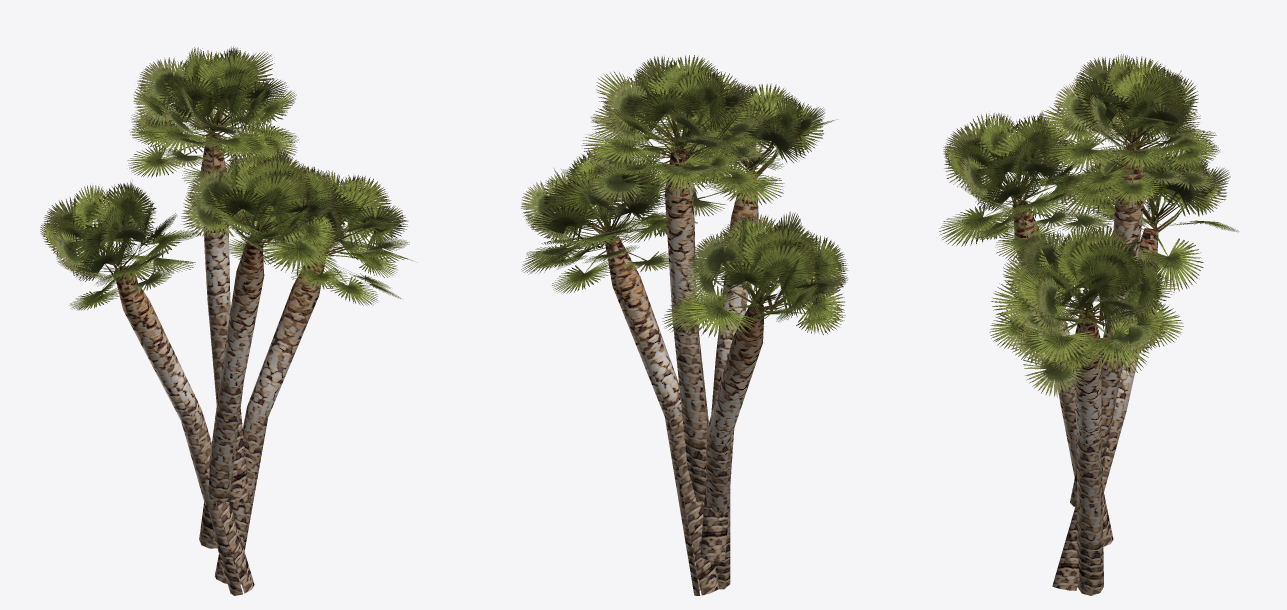
File: palm_medit_fan_new_tall_4.glb
The picture shows the model from 3 angles, left to right: view 1: azimuth 30°, elevation 25°; view 2: azimuth 150°, elevation 25°; view 3: azimuth 270°, elevation 25°; orthographic projection. The views are drawn at different scales.
Visible parts, largest first — view 1: palm_medit_fan_new_tall_4; view 2: palm_medit_fan_new_tall_4; view 3: palm_medit_fan_new_tall_4.
Part boxes in pixels (bbox=[...]): palm_medit_fan_new_tall_4: bbox=[40, 46, 412, 595]; palm_medit_fan_new_tall_4: bbox=[521, 55, 848, 595]; palm_medit_fan_new_tall_4: bbox=[939, 54, 1238, 595].
Size of the model in its own units: 14.71 by 19.77 by 12.12.
Materials: 1 (1 with a texture image).
